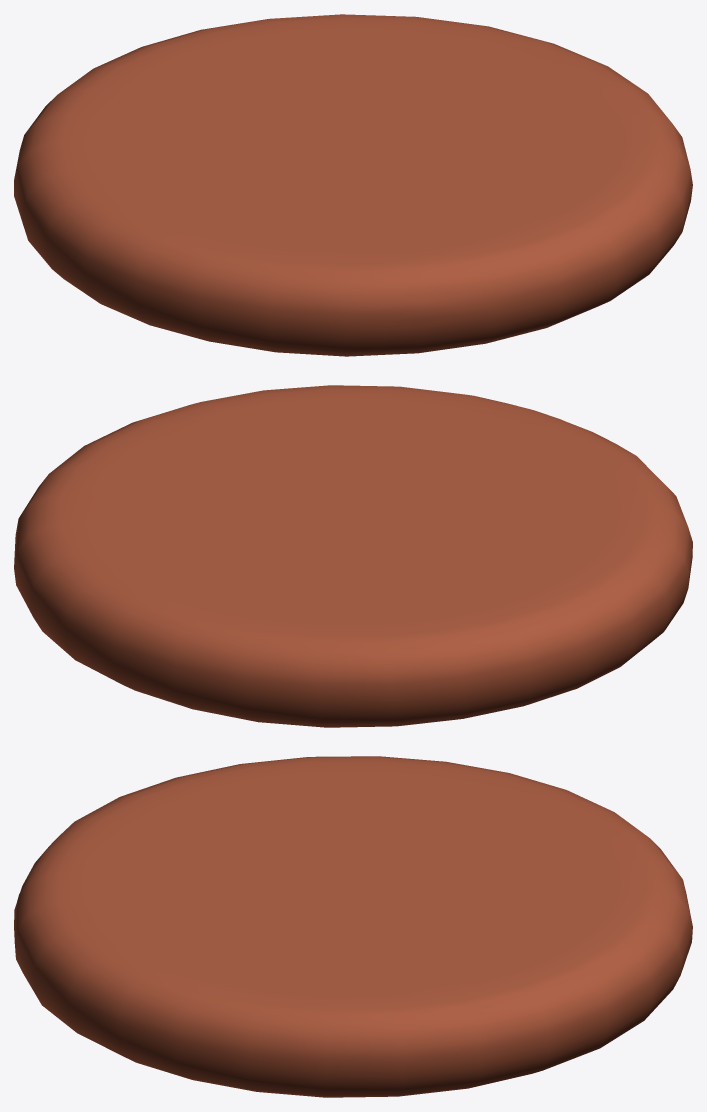
File: itemNormal04.fbx
3 renders of one model, top to bottom at view 1: azimuth 30°, elevation 25°; view 2: azimuth 150°, elevation 25°; view 3: azimuth 270°, elevation 25°, orthographic.
Parts seen in each view (by area): view 1: Meat; view 2: Meat; view 3: Meat.
Part boxes in pixels (x1=…): Meat: x1=14, y1=14, x2=692, y2=356; Meat: x1=14, y1=385, x2=692, y2=727; Meat: x1=14, y1=756, x2=692, y2=1097.
Bounding box in the file's own units: 179 × 25.13 × 179.
